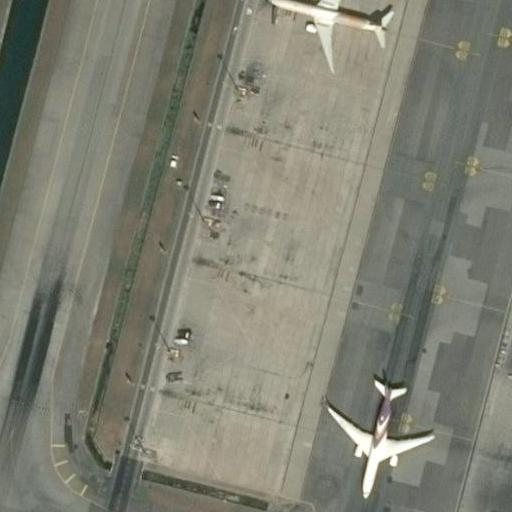Aircraft: (321, 372, 434, 500), (266, 0, 395, 70), (506, 265, 512, 377)
